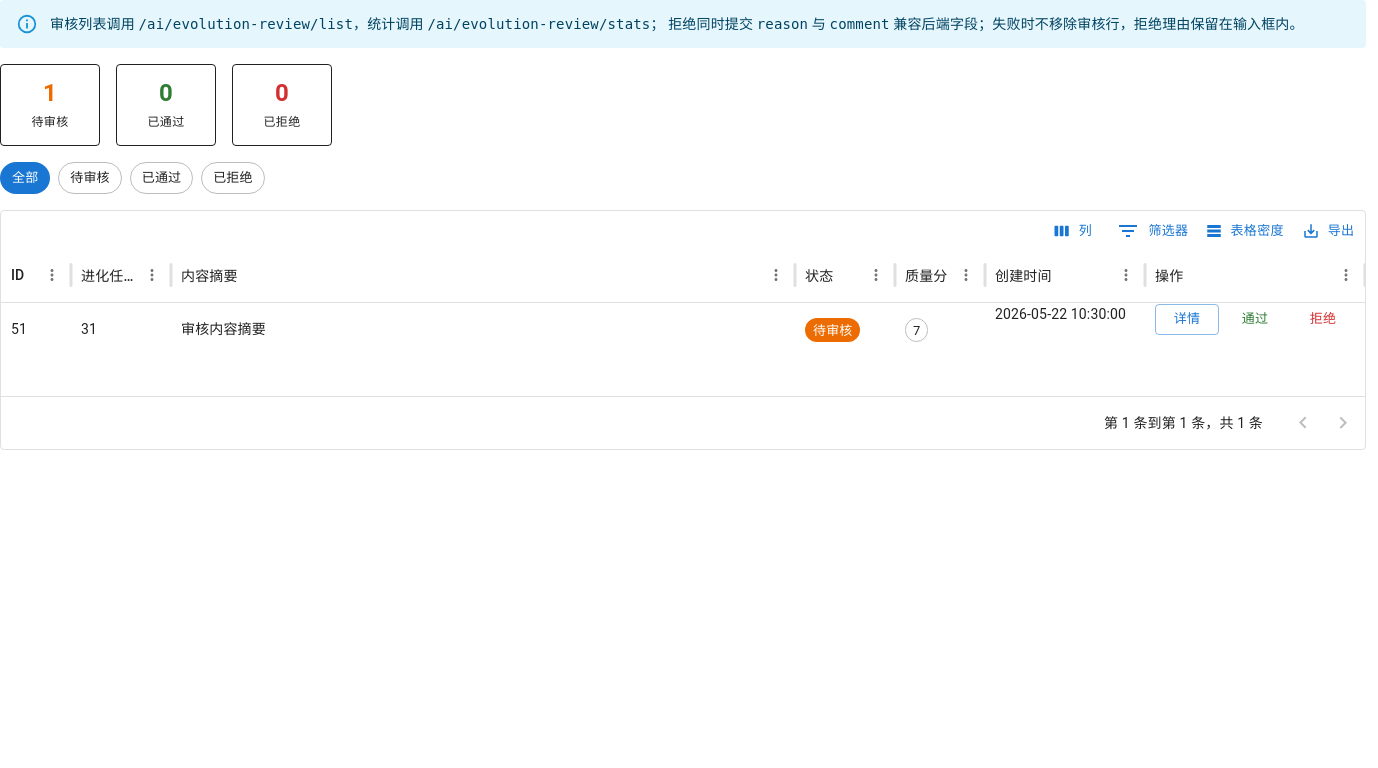
Test case: Evolution governance tabs › ReviewTab keeps reject reason and row when reject endpoint fails
This screenshot has width=1378, height=768.
Expected: the text "审核内容摘要" is shown, [181, 321, 266, 337]
Click the button "拒绝".
click(1323, 319)  # box [1291, 304, 1355, 335]
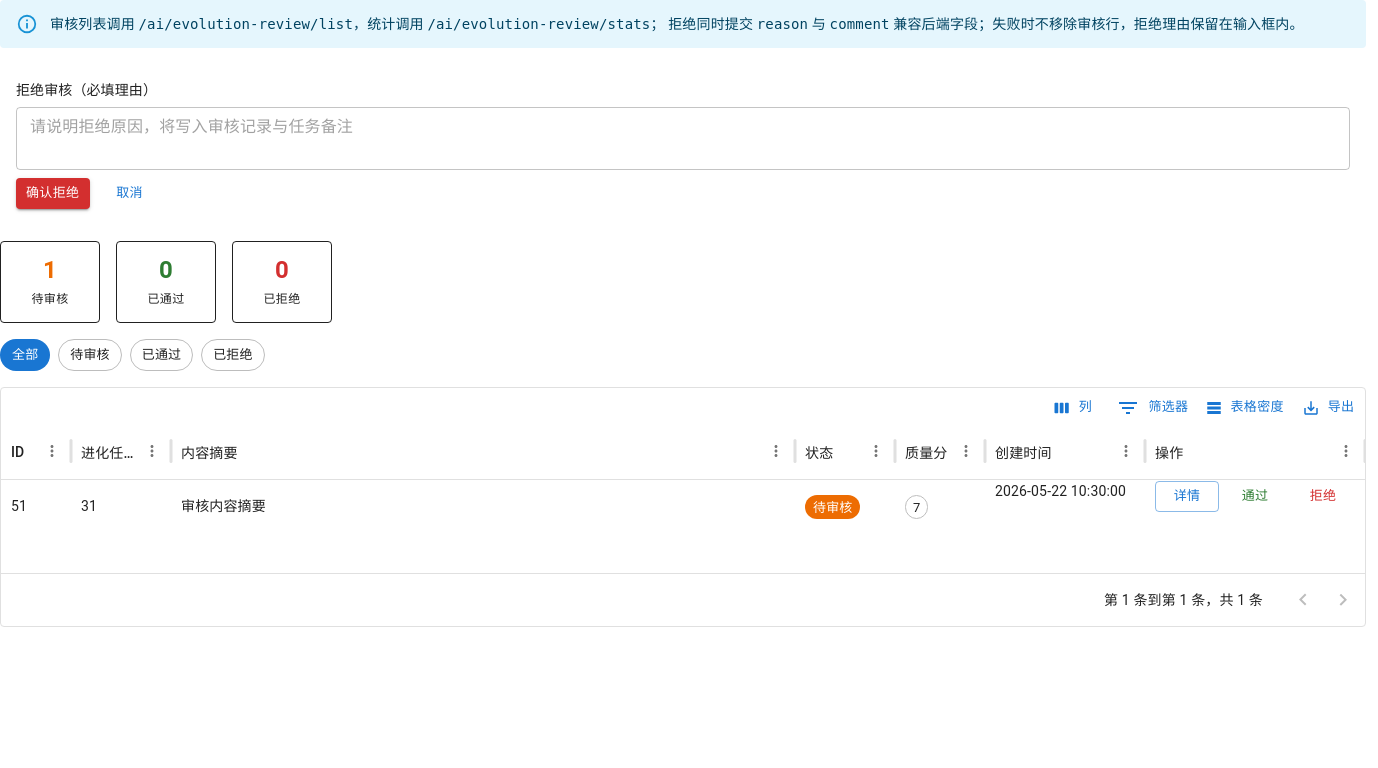
Type "缺少引用证据" into the text box with placeholder "请说明拒绝原因，将写入审核记录与任务备注".
click(683, 138); type("缺少引用证据")  # box [30, 115, 1336, 161]
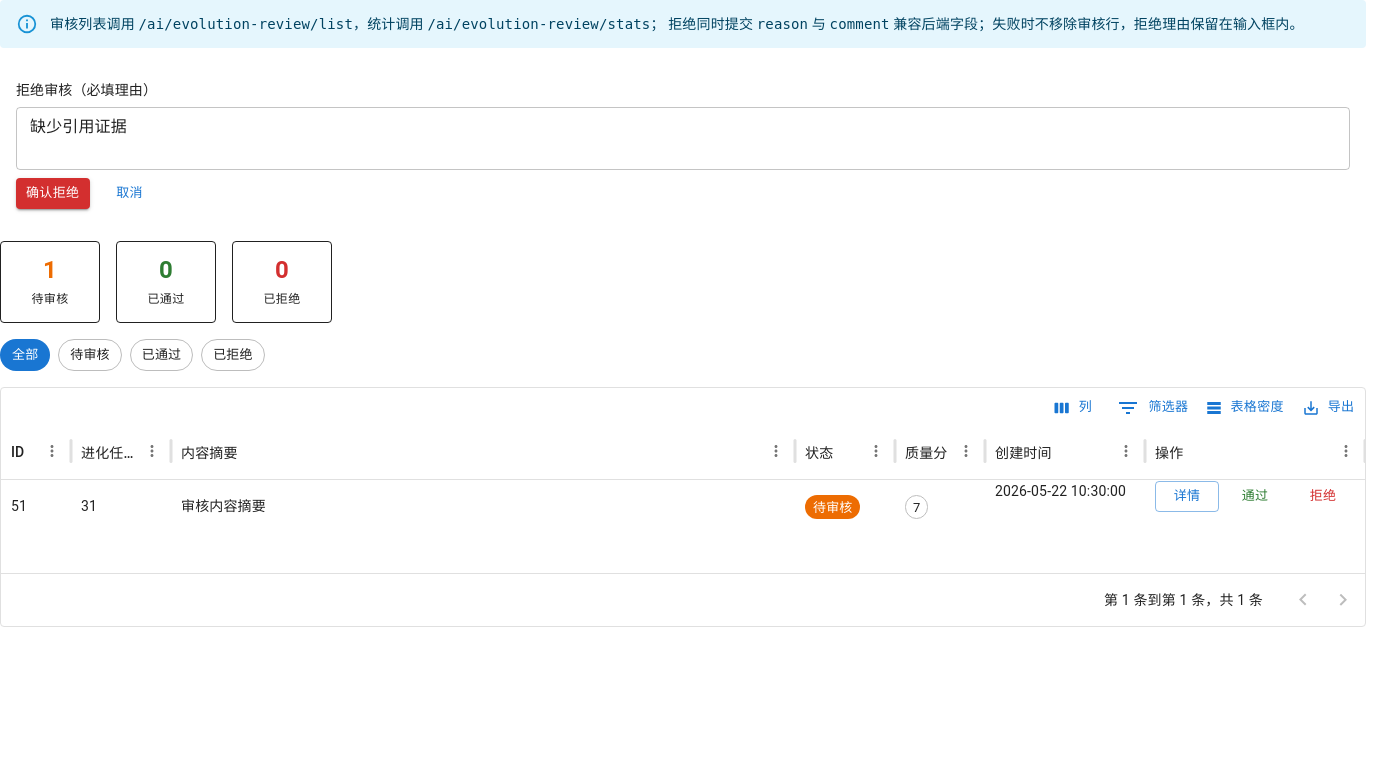
Click the button "确认拒绝".
click(53, 193)  # box [16, 178, 90, 209]
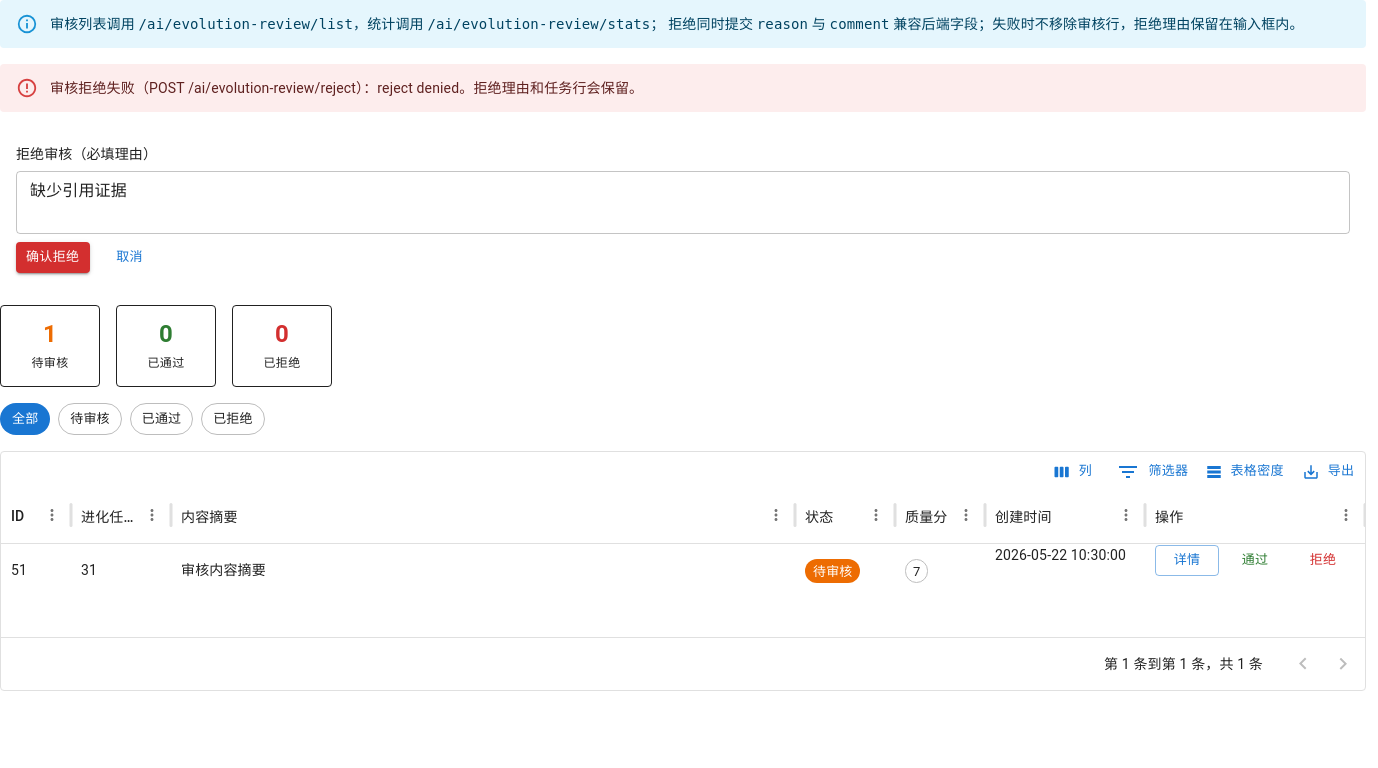
Expected: the text "审核内容摘要" is shown, [181, 562, 266, 578]
Result: the text "审核拒绝失败（POST /ai/evolution-review/reject）：reject denied" is shown at [50, 80, 643, 96]
